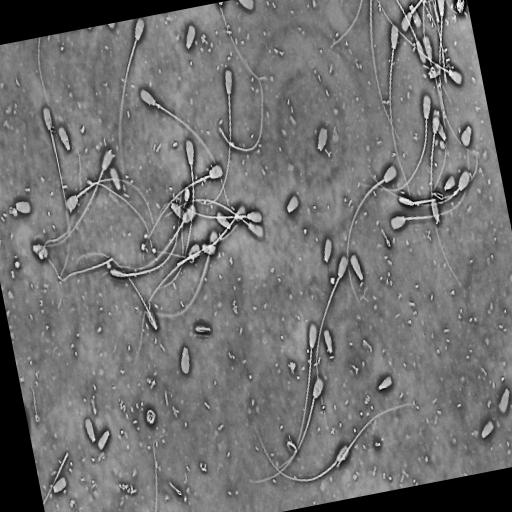dirt-particles: (144, 405, 159, 426), (330, 275, 336, 286)
folded-tail: (112, 188, 183, 277), (77, 253, 157, 329)
loose-head: (349, 251, 366, 284), (432, 114, 448, 144), (315, 122, 330, 153), (97, 426, 113, 455), (57, 123, 72, 153), (170, 200, 188, 223), (215, 209, 232, 232), (83, 416, 96, 445), (498, 386, 511, 415), (285, 192, 301, 215), (30, 242, 50, 260), (323, 326, 335, 356), (185, 21, 197, 51), (180, 343, 191, 375), (459, 123, 473, 148), (480, 418, 495, 441), (51, 475, 68, 495), (323, 234, 334, 264), (15, 199, 32, 217), (377, 373, 394, 391), (443, 174, 457, 192)
loose-tail: (333, 400, 420, 473), (215, 55, 266, 156), (327, 0, 366, 55), (35, 37, 52, 116), (152, 435, 160, 512)
normal: (139, 87, 233, 217), (251, 373, 326, 486), (142, 161, 224, 263), (345, 162, 399, 308), (101, 201, 199, 277), (388, 145, 471, 233), (109, 184, 184, 280), (378, 0, 463, 84), (361, 93, 432, 193), (273, 319, 319, 473), (75, 250, 159, 333), (153, 135, 196, 291), (315, 251, 351, 431), (252, 422, 353, 486), (429, 106, 463, 286), (40, 103, 72, 284), (62, 175, 157, 235), (194, 68, 233, 206), (387, 18, 414, 203), (117, 17, 147, 161), (420, 169, 471, 209), (397, 194, 450, 208)
proximal-droplet: (453, 189, 460, 196), (157, 103, 161, 109)
